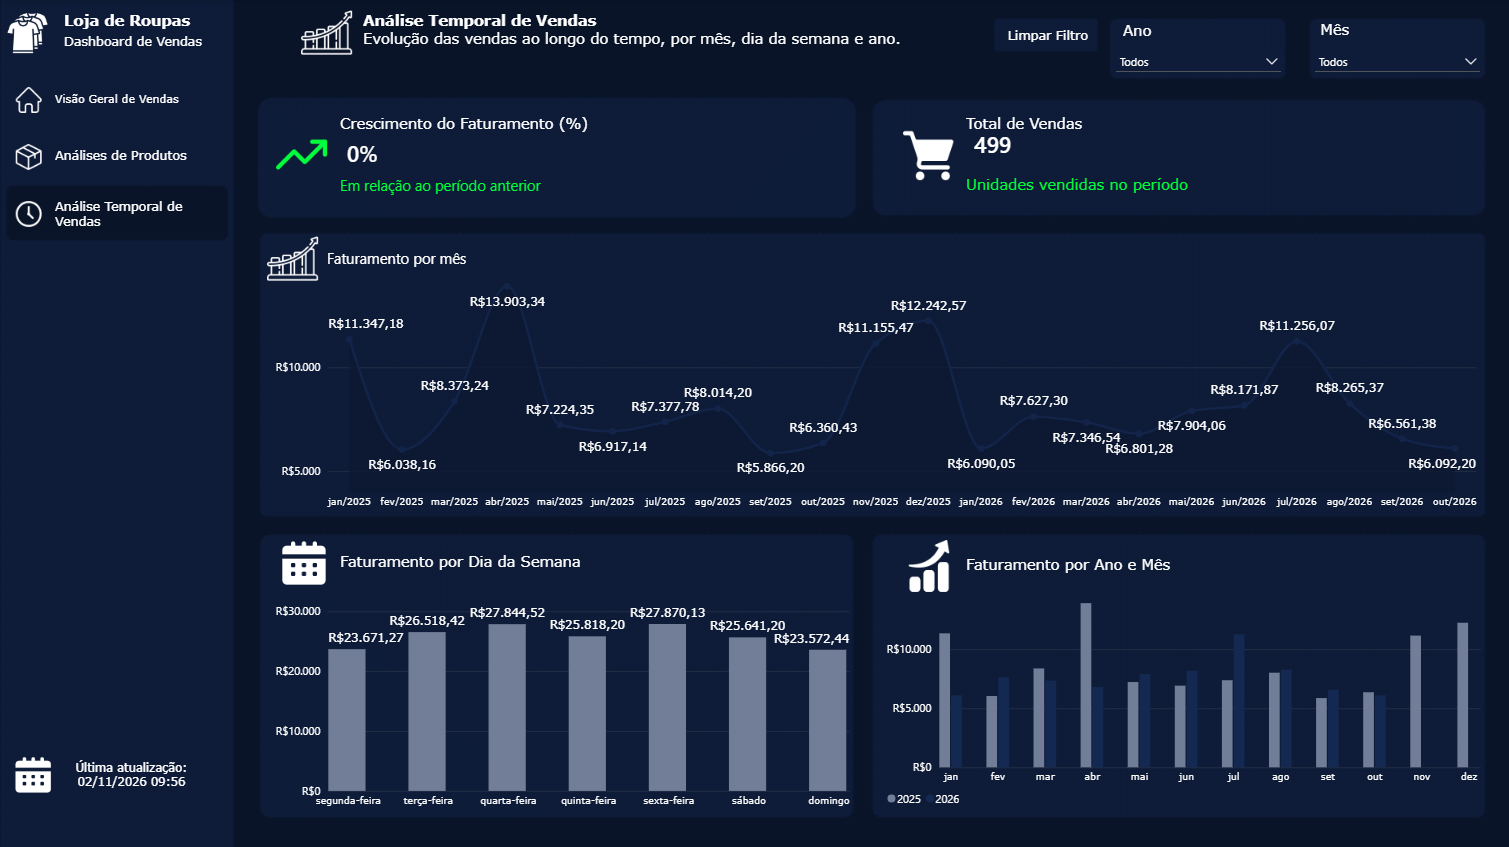

What the dashboard file says about the page in this screenshot:
{"tool":"powerbi","page":{"name":"Análise de Vendas ao Longo do Tempo","canvas":[1920,1080],"ordinal":2},"visuals":[{"type":"textbox","box":[462.5,14,707.7,87.7],"z":0},{"type":"textbox","box":[433.3,144.4,658,37.9],"z":1000},{"type":"textbox","box":[433.3,221.8,658,30.6],"z":2000},{"type":"card","fields":{"Values":["_medidas.10 Crescimento Faturamento (%)"]},"box":[373.5,169.2,176.5,55.4],"z":3000},{"type":"textbox","box":[1228.4,144.4,307.8,24.8],"z":4000},{"type":"card","fields":{"Values":["_medidas.03 Total de Vendas"]},"box":[1215.3,150.3,93.4,71.5],"z":5000},{"type":"textbox","box":[1228.4,221.8,307.8,30.6],"z":6000},{"type":"textbox","box":[417.3,296.2,195.5,58.4],"z":7000},{"type":"lineChart","fields":{"Category":["D_Calendario.MesAno"],"Y":["_medidas.01 Faturamento Total"]},"box":[335.3,345.2,1552.1,308.4],"z":8000},{"type":"columnChart","fields":{"Category":["D_Calendario.DiaSemana"],"Y":["_medidas.01 Faturamento Total"]},"box":[335.6,751.4,755.7,283],"z":9000},{"type":"textbox","box":[433.3,682.8,328.3,62.7],"z":10000},{"type":"textbox","box":[1228.4,685.7,271.4,65.7],"z":11000},{"type":"clusteredColumnChart","fields":{"Category":["D_Calendario.MesAbreviado"],"Series":["D_Calendario.Ano"],"Y":["_medidas.01 Faturamento Total"]},"box":[1111.7,751.4,776.2,283],"z":12000},{"type":"textbox","box":[1413.5,25.5,222.1,32.5],"z":13000},{"type":"textbox","box":[1665.3,25.5,222.1,32.5],"z":14000},{"type":"slicer","fields":{"Values":["D_Calendario.Ano"]},"box":[1413.5,58,222.1,43.9],"z":15000},{"type":"slicer","fields":{"Values":["D_Calendario.Mes"]},"box":[1665.3,58,222.1,43.9],"z":16000},{"type":"textbox","box":[82.1,14.1,213.6,43.9],"z":17000},{"type":"textbox","box":[82.1,42.4,213.6,38.2],"z":18000},{"type":"textbox","box":[70.7,116,225,34],"z":19000},{"type":"textbox","box":[70.7,186.8,225,35.4],"z":20000},{"type":"textbox","box":[70.7,251.8,215.1,43.9],"z":21000},{"type":"image","box":[15.6,111,45,33],"z":22000},{"type":"image","box":[15.6,183,45,33],"z":23000},{"type":"image","box":[15.6,255,45,33],"z":24000},{"type":"image","box":[4.4,16,65.7,51.1],"z":25000},{"type":"image","box":[351.6,163.4,65,65],"z":26000},{"type":"image","box":[1148.2,163.4,65,65],"z":27000},{"type":"image","box":[383.7,8.8,65,65],"z":28000},{"type":"image","box":[339.9,296.2,65,65],"z":29000},{"type":"image","box":[354.5,682.8,65.7,65.7],"z":30000},{"type":"image","box":[1148.2,685.7,65.7,65.7],"z":31000},{"type":"card","fields":{"Values":["_medidas.11 Última Atualização"]},"box":[61.3,955.6,214.5,58.4],"z":32000},{"type":"image","box":[16,955.6,54,58.4],"z":33000},{"type":"actionButton","box":[68.7,111.4,164.5,32.4],"z":33001},{"type":"actionButton","box":[70,181.4,172.3,33.7],"z":33002},{"type":"textbox","box":[1270.6,34.3,125.8,33],"z":33003},{"type":"actionButton","box":[1270.6,25.4,125.8,39.4],"z":33004}]}

Visuals, with their boxes on the page's 1920x1080 design canvas (x1, y1, x2, y2). These are canvas units, not pixel positions in the 1509x847 screenshot, which may show the page scaled, cropped or inside an application window:
textbox: detection(462, 14, 1170, 102)
textbox: detection(433, 144, 1091, 182)
textbox: detection(433, 222, 1091, 252)
card - _medidas.10 Crescimento Faturamento (%): detection(374, 169, 550, 225)
textbox: detection(1228, 144, 1536, 169)
card - _medidas.03 Total de Vendas: detection(1215, 150, 1309, 222)
textbox: detection(1228, 222, 1536, 252)
textbox: detection(417, 296, 613, 355)
lineChart - D_Calendario.MesAno x _medidas.01 Faturamento Total: detection(335, 345, 1887, 654)
columnChart - D_Calendario.DiaSemana x _medidas.01 Faturamento Total: detection(336, 751, 1091, 1034)
textbox: detection(433, 683, 762, 746)
textbox: detection(1228, 686, 1500, 751)
clusteredColumnChart - D_Calendario.MesAbreviado x D_Calendario.Ano: detection(1112, 751, 1888, 1034)
textbox: detection(1414, 26, 1636, 58)
textbox: detection(1665, 26, 1887, 58)
slicer - D_Calendario.Ano: detection(1414, 58, 1636, 102)
slicer - D_Calendario.Mes: detection(1665, 58, 1887, 102)
textbox: detection(82, 14, 296, 58)
textbox: detection(82, 42, 296, 81)
textbox: detection(71, 116, 296, 150)
textbox: detection(71, 187, 296, 222)
textbox: detection(71, 252, 286, 296)
image: detection(16, 111, 61, 144)
image: detection(16, 183, 61, 216)
image: detection(16, 255, 61, 288)
image: detection(4, 16, 70, 67)
image: detection(352, 163, 417, 228)
image: detection(1148, 163, 1213, 228)
image: detection(384, 9, 449, 74)
image: detection(340, 296, 405, 361)
image: detection(354, 683, 420, 748)
image: detection(1148, 686, 1214, 751)
card - _medidas.11 Última Atualização: detection(61, 956, 276, 1014)
image: detection(16, 956, 70, 1014)
actionButton: detection(69, 111, 233, 144)
actionButton: detection(70, 181, 242, 215)
textbox: detection(1271, 34, 1396, 67)
actionButton: detection(1271, 25, 1396, 65)
